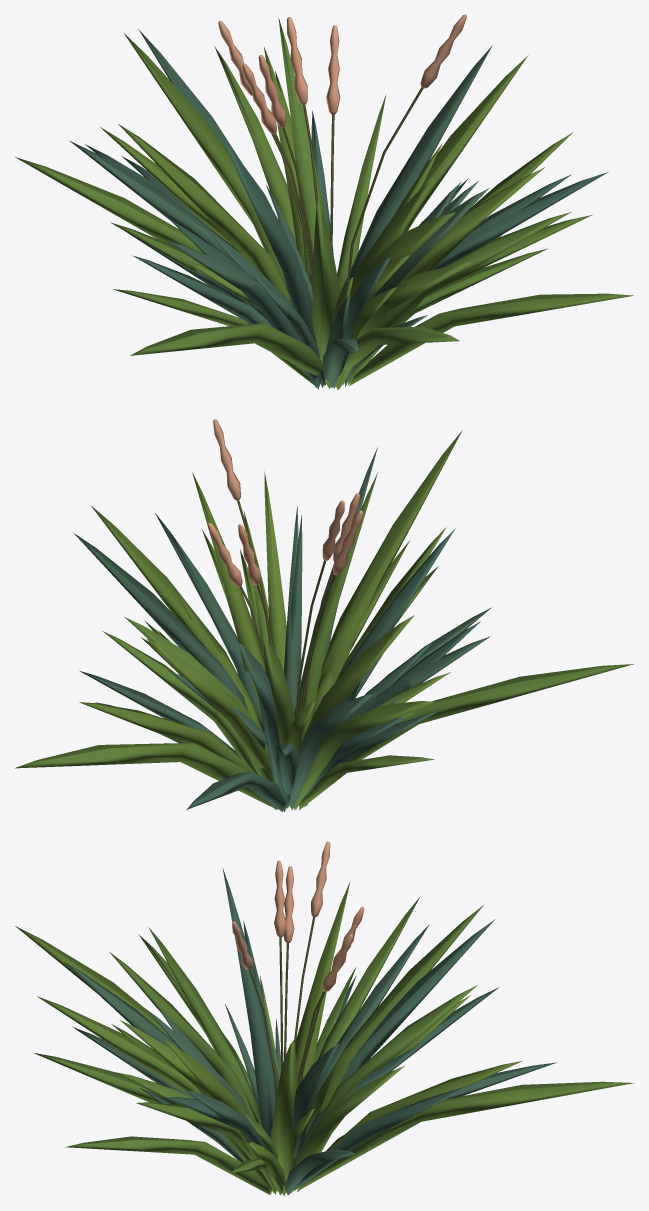
File: potfill_grass.glb
3 renders of one model, top to bottom at view 1: azimuth 30°, elevation 25°; view 2: azimuth 150°, elevation 25°; view 3: azimuth 270°, elevation 25°, orthographic. The views are drawn at different scales.
Visible parts, largest first — view 1: Sammel Pflanze, Sammel Putz; view 2: Sammel Pflanze, Sammel Putz; view 3: Sammel Pflanze, Sammel Putz.
Boxes of the visible parts, left/top/right/bottom form: Sammel Pflanze: left=15, top=14, right=633, bottom=390; Sammel Putz: left=271, top=87, right=423, bottom=385; Sammel Pflanze: left=15, top=419, right=633, bottom=812; Sammel Putz: left=237, top=499, right=335, bottom=807; Sammel Pflanze: left=15, top=841, right=633, bottom=1195; Sammel Putz: left=249, top=916, right=325, bottom=1101.
Bounding box in the file's own units: 0.8435 × 0.5925 × 1.06.
